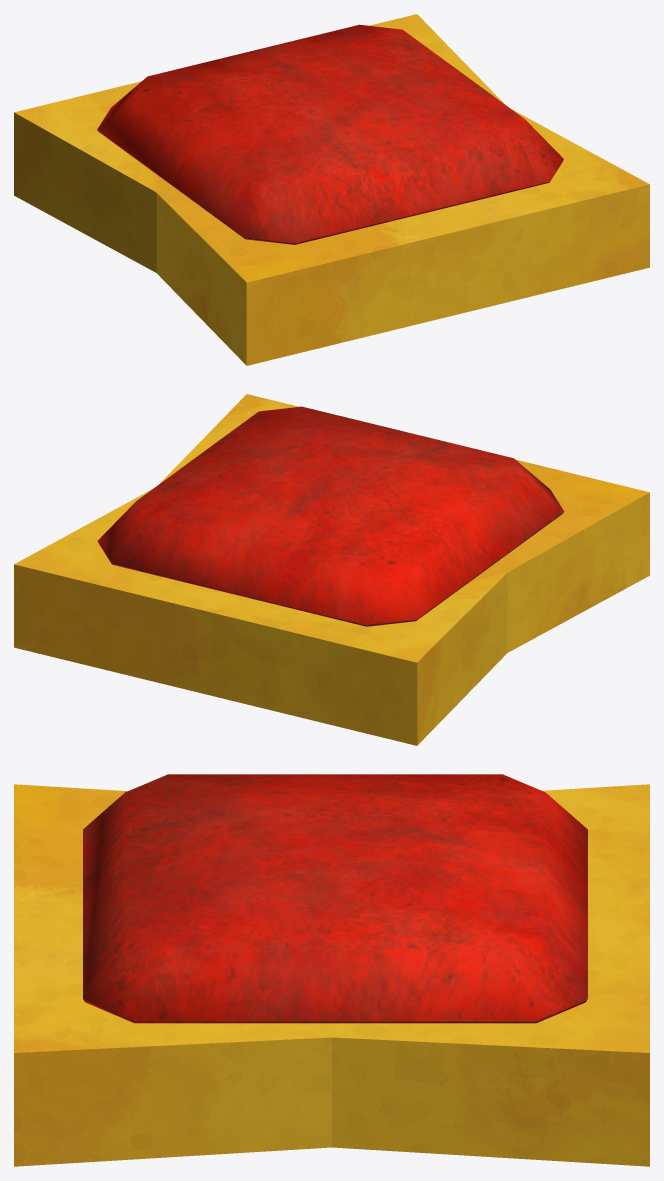
The model's file is GameReadyJumpad.glb.
3 views of the same model, one above another, from view 1: azimuth 30°, elevation 25°; view 2: azimuth 150°, elevation 25°; view 3: azimuth 270°, elevation 25° (orthographic). The views are drawn at different scales.
Visible parts, largest first — view 1: Springplate.2, Springplate; view 2: Springplate.2, Springplate; view 3: Springplate, Springplate.2.
Boxes of the visible parts, x1=… form: Springplate.2: x1=14, y1=14, x2=649, y2=365; Springplate: x1=97, y1=24, x2=563, y2=244; Springplate.2: x1=14, y1=394, x2=649, y2=745; Springplate: x1=97, y1=406, x2=564, y2=626; Springplate: x1=83, y1=774, x2=587, y2=1023; Springplate.2: x1=14, y1=784, x2=649, y2=1166.
Bounding box in the file's own units: 3.42 × 1.15 × 3.42.
1 material, 1 textured.
